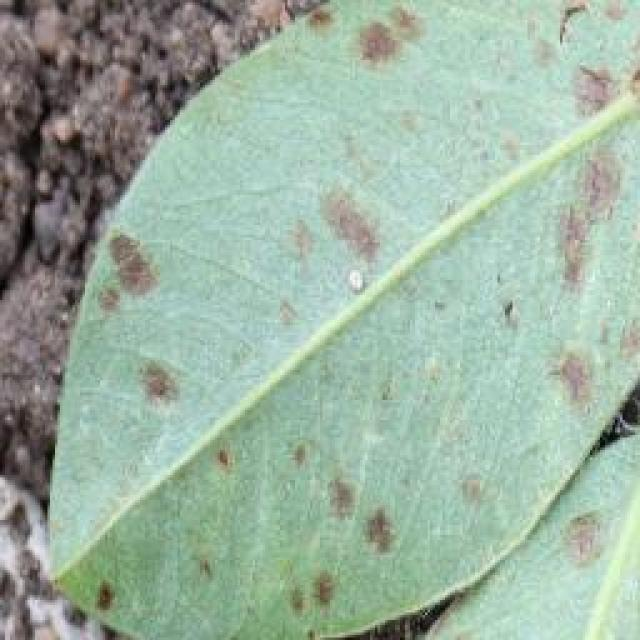Whitefly: (195, 405, 414, 635), (245, 128, 399, 338), (490, 92, 640, 302), (444, 446, 640, 600), (77, 200, 186, 410), (520, 0, 640, 145), (534, 308, 632, 452), (257, 0, 423, 84), (38, 546, 158, 634)
